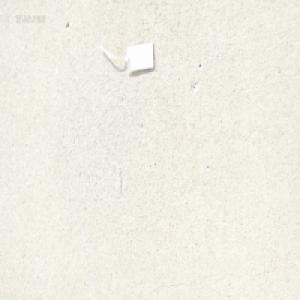LuggageTag: (100, 37, 156, 73)
